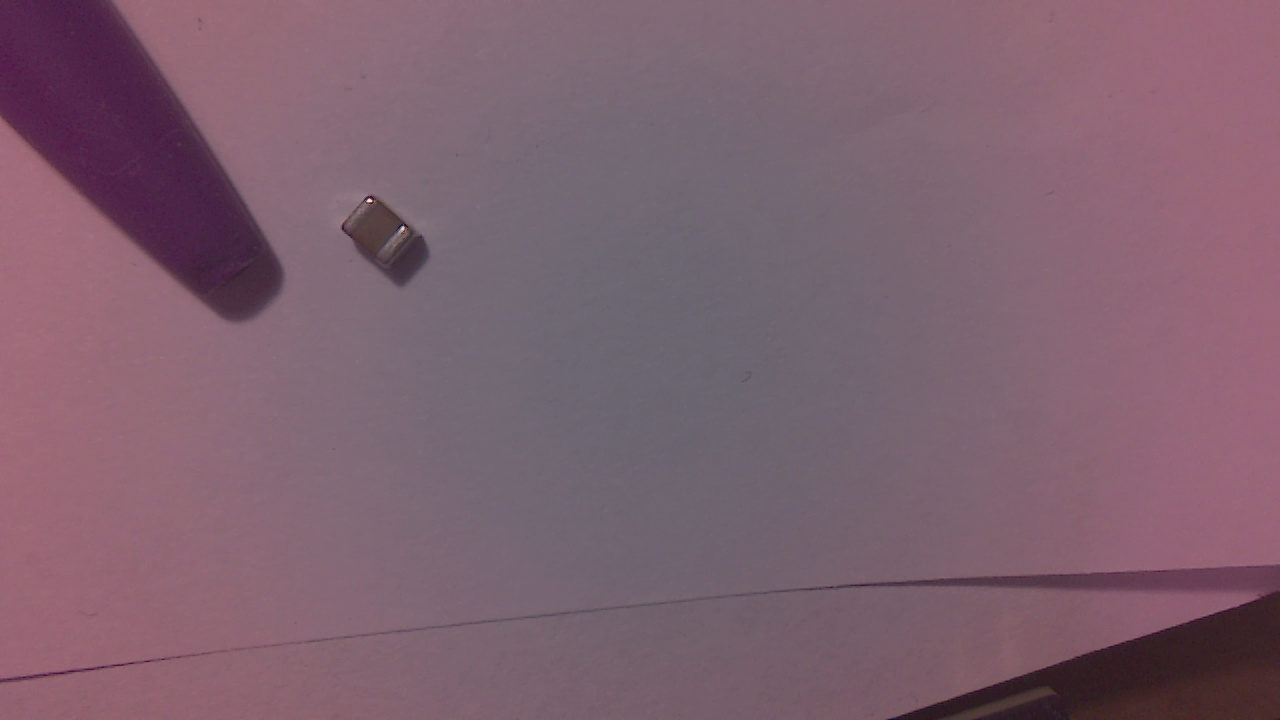Condensator: (346, 199, 429, 282)
